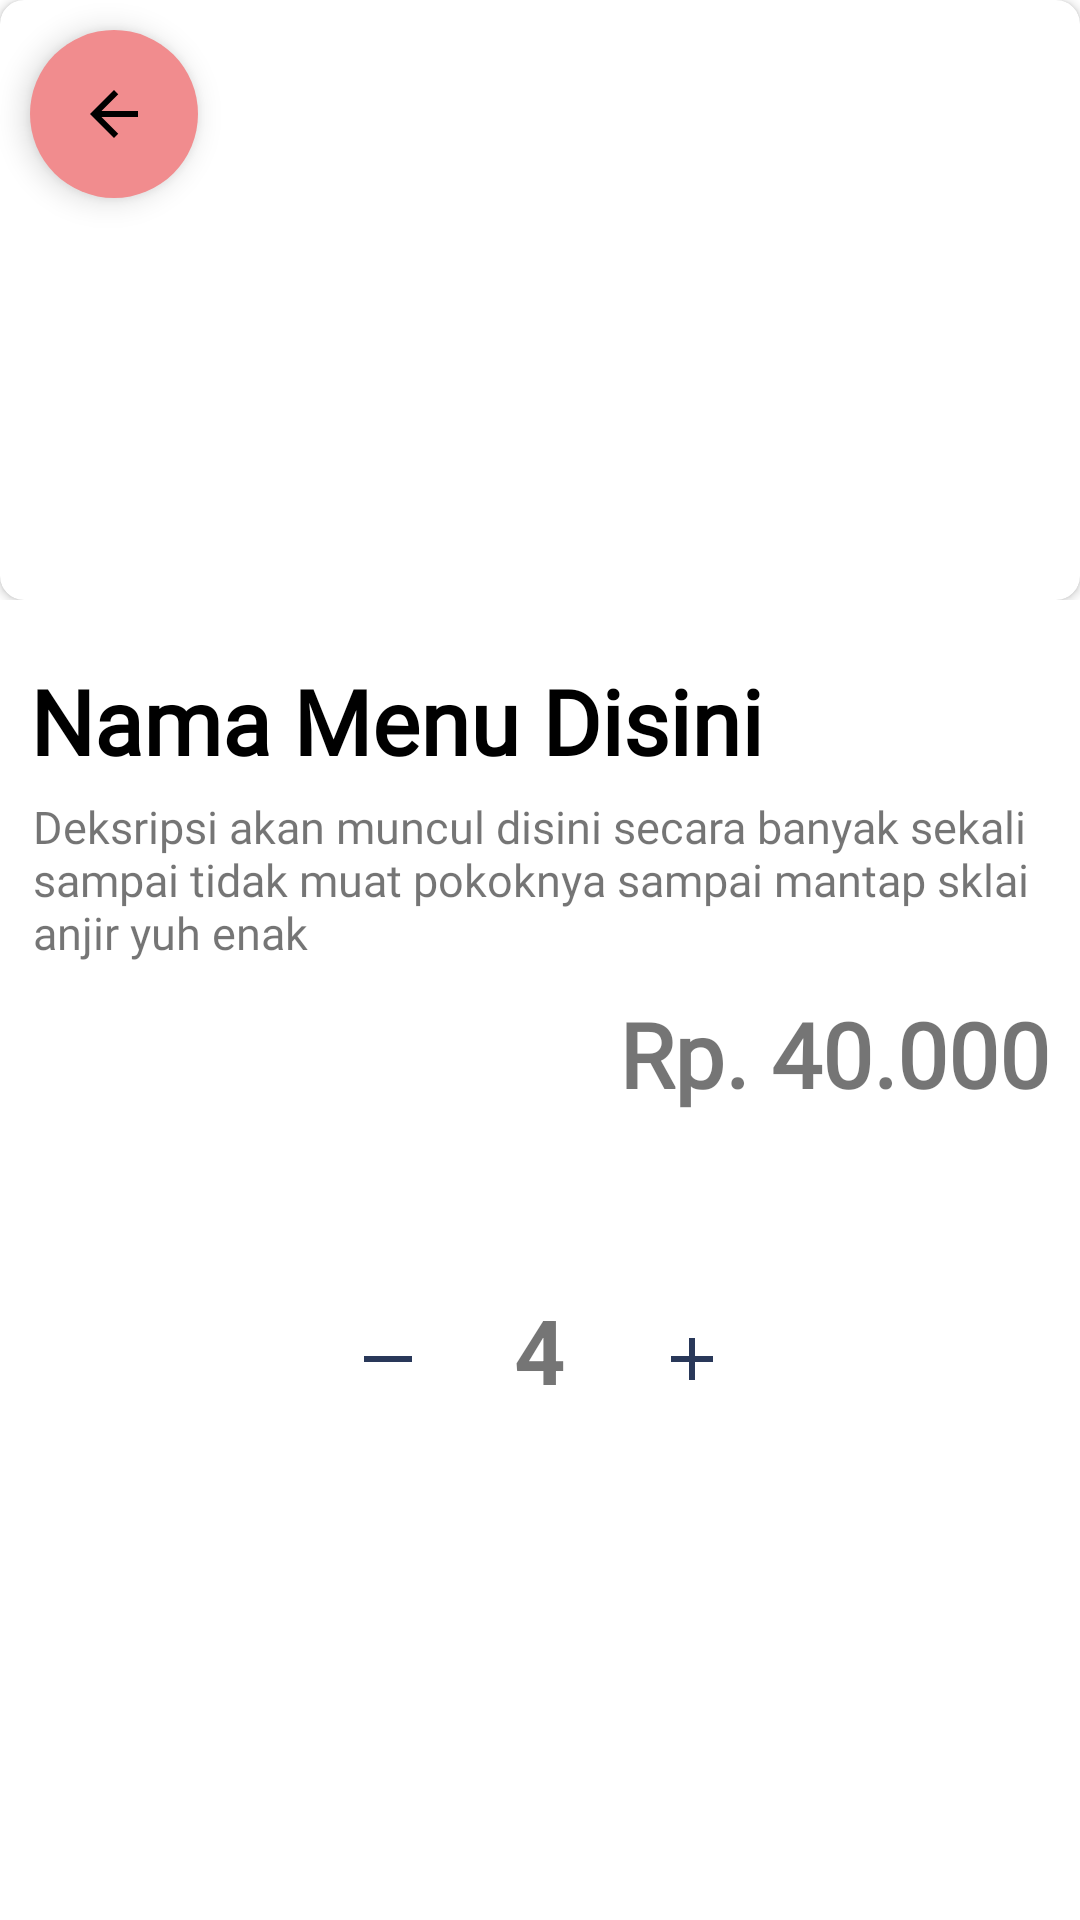

Icons on this 1080x1920 Android screen, each with its box as (x1, y1, x2, y2):
add: (671, 1338, 713, 1380)
arrow back: (30, 30, 198, 198)
